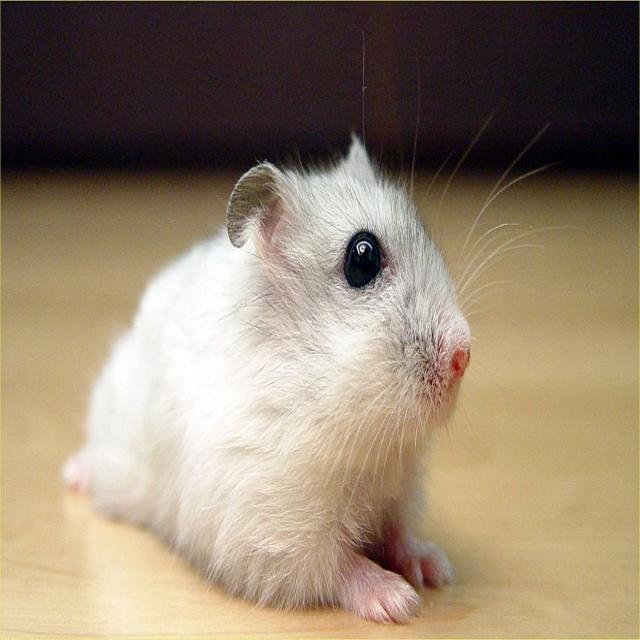hamster: (116, 180, 442, 560)
